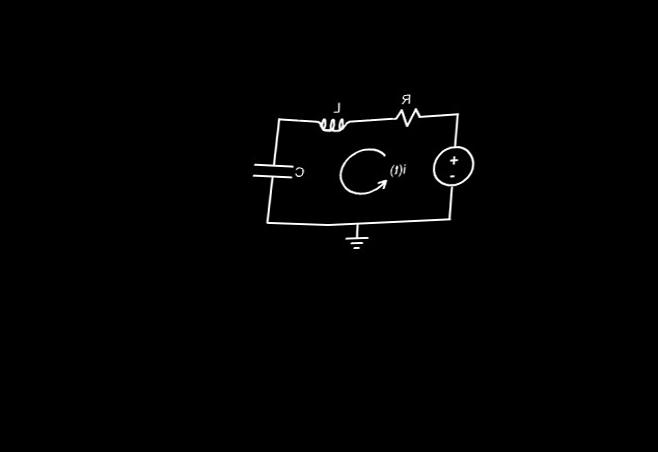Battery: (417, 137, 491, 198)
